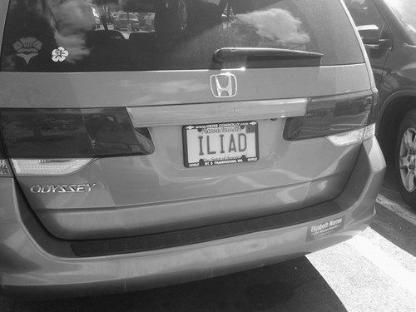license plate: (176, 122, 266, 168)
